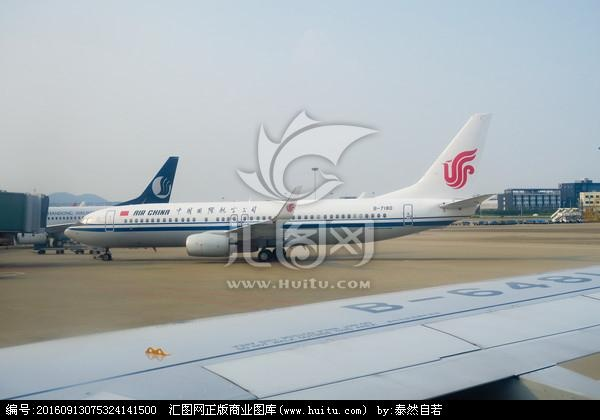airplane: (59, 110, 493, 263)
